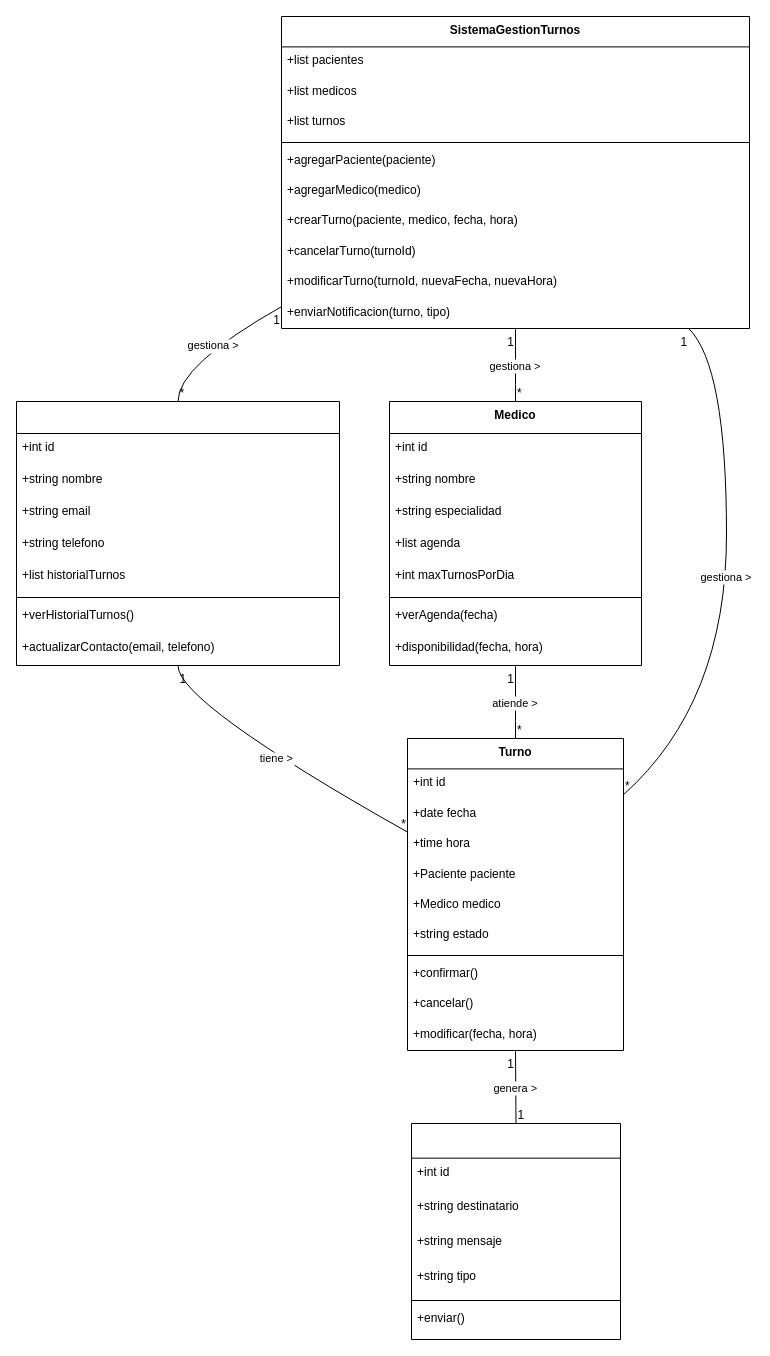
Some shapes in this 770 by 1356 pixel diagram are drawn without their labels. Each missing label, with the box of its shape:
Notificacion: (410, 1122, 620, 1340)
Paciente: (16, 400, 340, 666)
